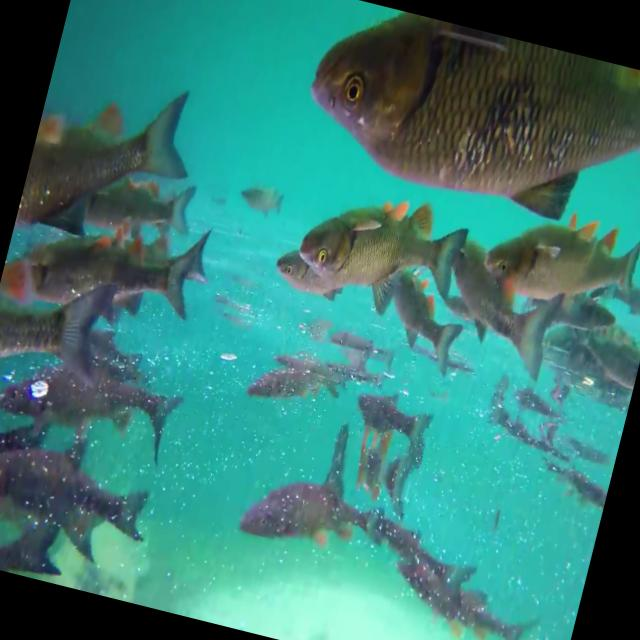fish: (294, 1, 640, 242), (15, 84, 198, 256), (0, 202, 200, 347), (290, 184, 464, 331), (426, 235, 570, 380), (475, 202, 640, 327)
